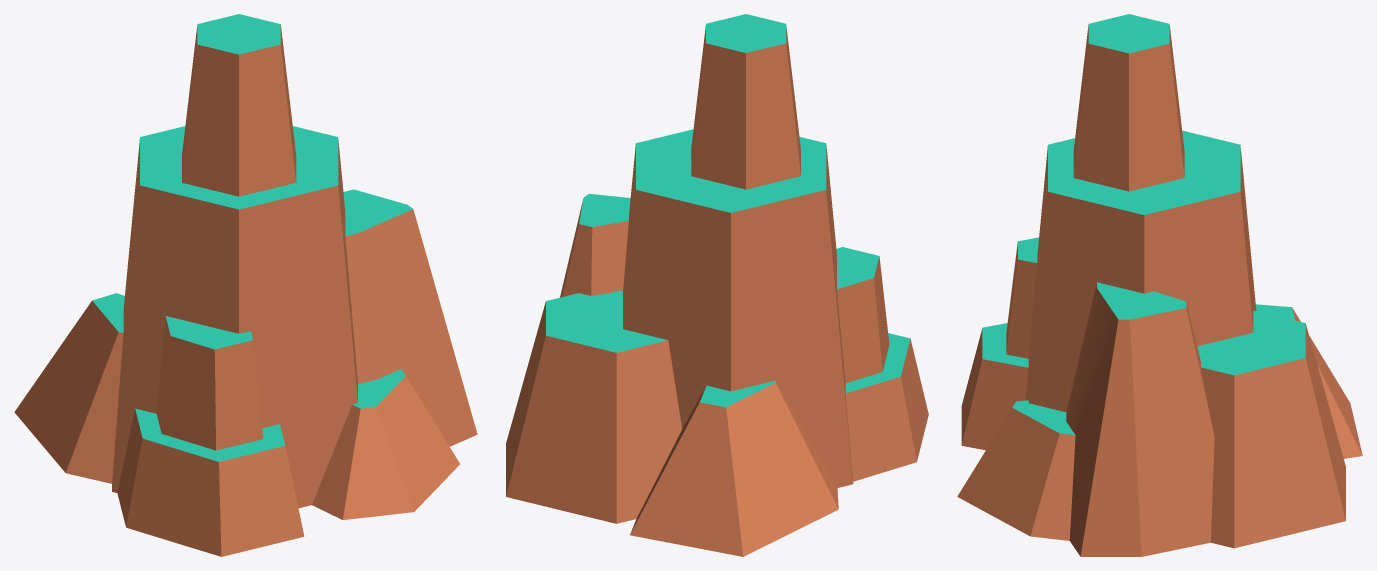
The model's file is rock-tall-b.glb.
3 renders of one model, left to right at view 1: azimuth 30°, elevation 25°; view 2: azimuth 150°, elevation 25°; view 3: azimuth 270°, elevation 25°, orthographic. The views are drawn at different scales.
Visible parts, largest first — view 1: rock_tallB; view 2: rock_tallB; view 3: rock_tallB.
Part boxes in pixels (box(x1,y1,x2,y2)): rock_tallB: box(14, 14, 477, 556); rock_tallB: box(506, 14, 928, 556); rock_tallB: box(957, 14, 1362, 556).
Size of the model in its own units: 0.7648 by 0.8838 by 0.77.
